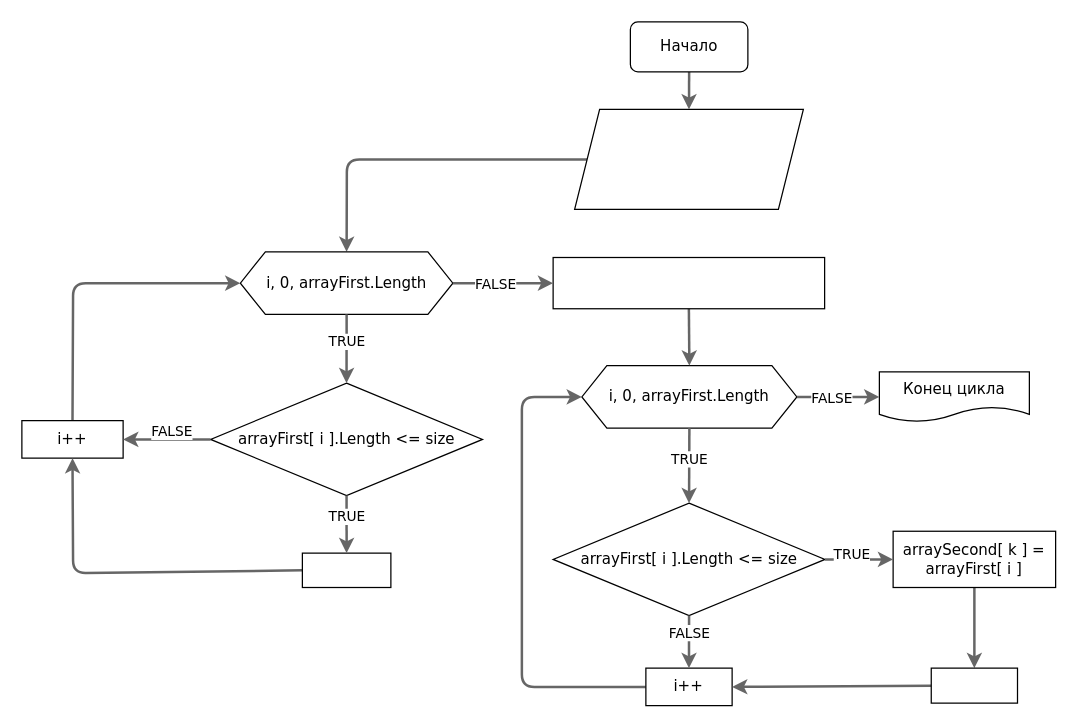
Image size: 1078x728. Some labels were removed from this diagram. Here are the shapes that lost their labels. From the top down, the centre of each, then its label:
the point at 688,158: arrayFirst [ ] = {"text_1", ... "text_n"} size = 3 count = 0 k = 0
the point at 688,282: arraySecond[sizeSecondArray]
the point at 346,570: count++
the point at 974,685: k++
